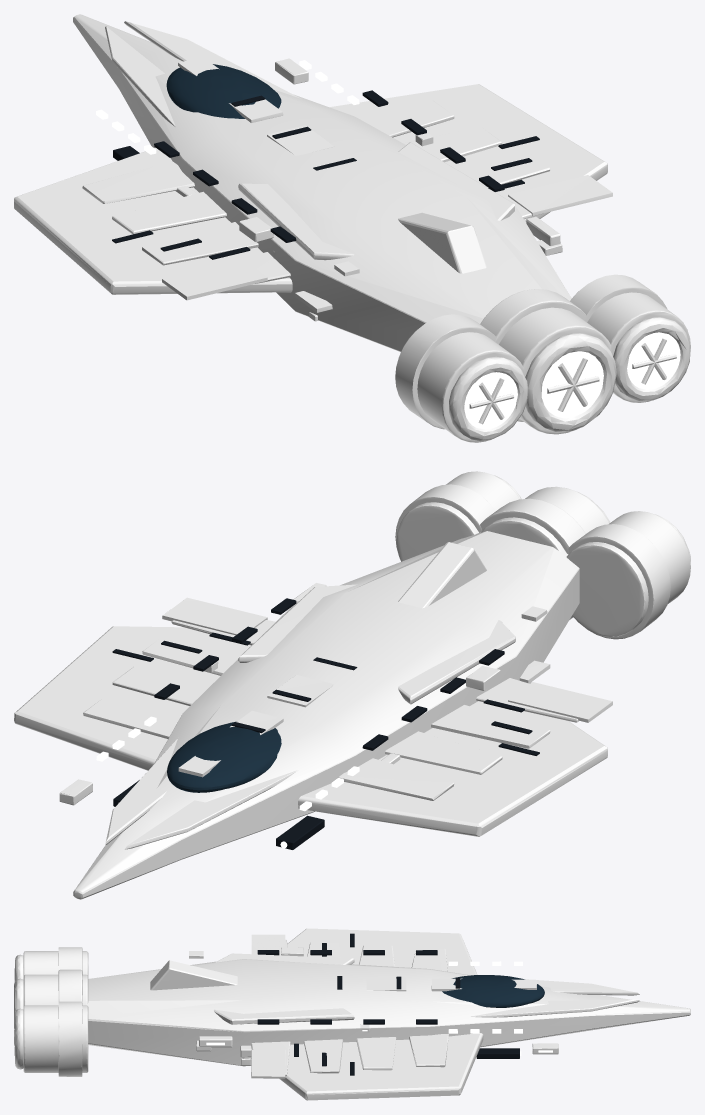
The model's file is aur-lance-interceptor-near.glb.
The picture shows the model from 3 angles, top to bottom: view 1: azimuth 30°, elevation 25°; view 2: azimuth 150°, elevation 25°; view 3: azimuth 270°, elevation 25°; orthographic projection. The views are drawn at different scales.
Visible parts, largest first — view 1: Primary_Hull, Engine_Center_Nozzle_Ring, Aft_Shoulder_L, Engine_Center, Engine_Center_Glow, Canopy, Fuselage_Vent_L_01; view 2: Primary_Hull, Engine_Center_Nozzle_Ring, Engine_Center, Aft_Shoulder_L, Canopy, Fuselage_Vent_L_01, Engine_Center_Glow; view 3: Primary_Hull, Engine_Center_Nozzle_Ring, Aft_Shoulder_L, Engine_Center, Canopy, Fuselage_Vent_L_01, Engine_Center_Glow.
Part boxes in pixels (box(x1,y1,x2,y2)): Primary_Hull: box(73, 14, 571, 351); Engine_Center_Nozzle_Ring: box(14, 21, 690, 441); Aft_Shoulder_L: box(162, 132, 667, 429); Engine_Center: box(112, 58, 690, 442); Engine_Center_Glow: box(96, 60, 680, 429); Canopy: box(166, 64, 281, 118); Fuselage_Vent_L_01: box(112, 90, 539, 259); Primary_Hull: box(73, 531, 579, 899); Engine_Center_Nozzle_Ring: box(14, 475, 690, 849); Engine_Center: box(59, 471, 690, 805); Aft_Shoulder_L: box(162, 484, 670, 722); Canopy: box(167, 721, 281, 792); Fuselage_Vent_L_01: box(112, 598, 539, 849); Engine_Center_Glow: box(96, 716, 359, 848); Primary_Hull: box(87, 959, 690, 1066); Engine_Center_Nozzle_Ring: box(14, 928, 639, 1100); Aft_Shoulder_L: box(58, 934, 369, 1078); Engine_Center: box(14, 939, 558, 1076); Canopy: box(442, 975, 544, 1007); Fuselage_Vent_L_01: box(257, 933, 519, 1075); Engine_Center_Glow: box(206, 961, 552, 1055).
Bounding box in the file's own units: 8.8 × 2.26 × 15.25.
